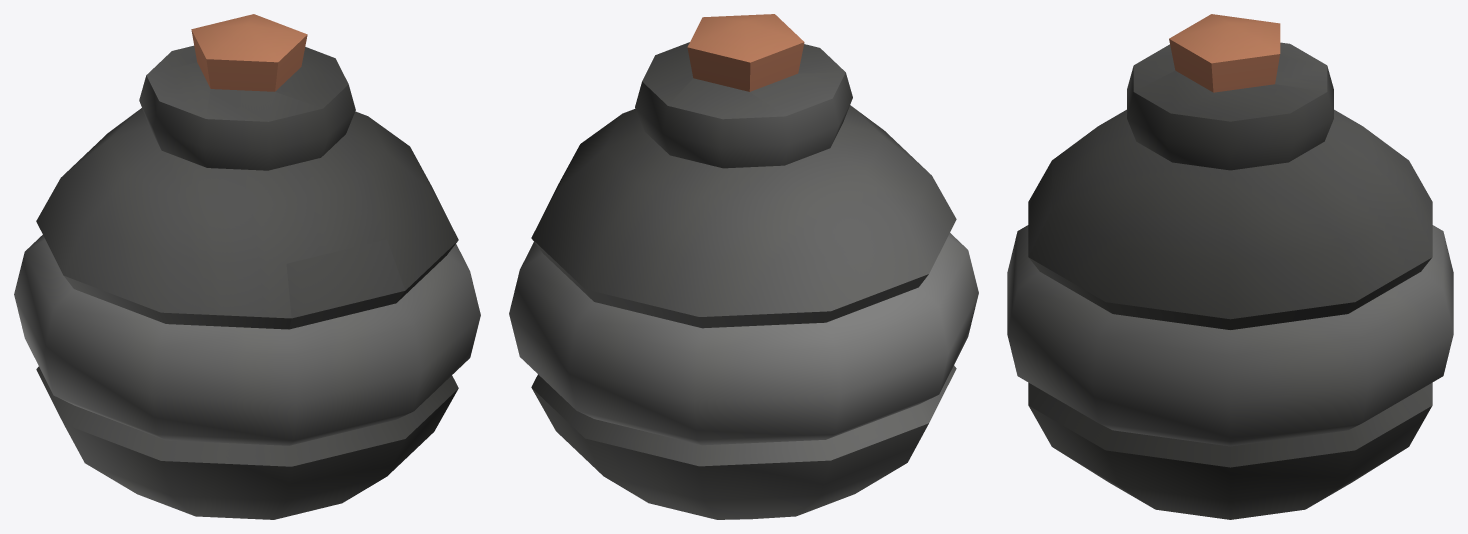
File: Bomb_.fbx
3 renders of one model, left to right at view 1: azimuth 30°, elevation 25°; view 2: azimuth 150°, elevation 25°; view 3: azimuth 270°, elevation 25°, orthographic.
Parts seen in each view (by area): view 1: Bomb; view 2: Bomb; view 3: Bomb.
Boxes of the visible parts, x1=… form: Bomb: x1=14, y1=14, x2=480, y2=519; Bomb: x1=509, y1=14, x2=978, y2=519; Bomb: x1=1007, y1=14, x2=1453, y2=519.
Size of the model in its own units: 3826 by 4231 by 3639.
